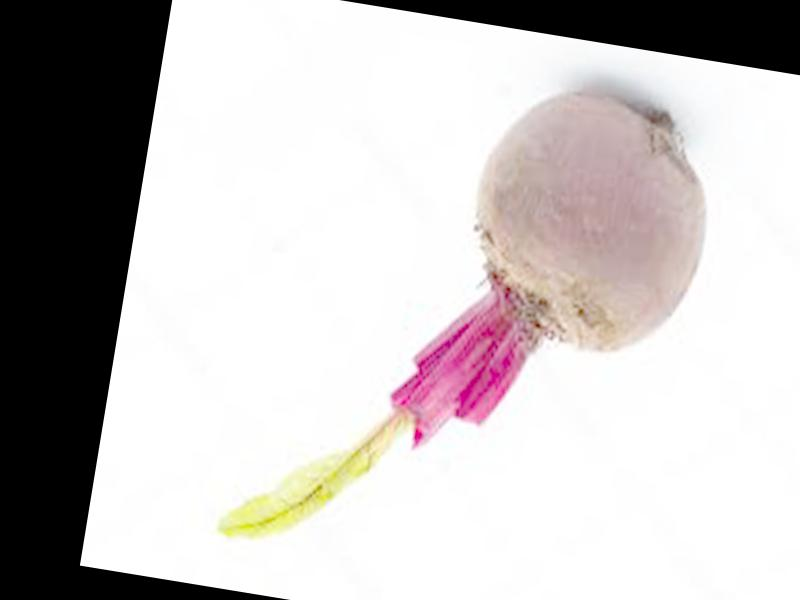Beet: (220, 46, 725, 600)
